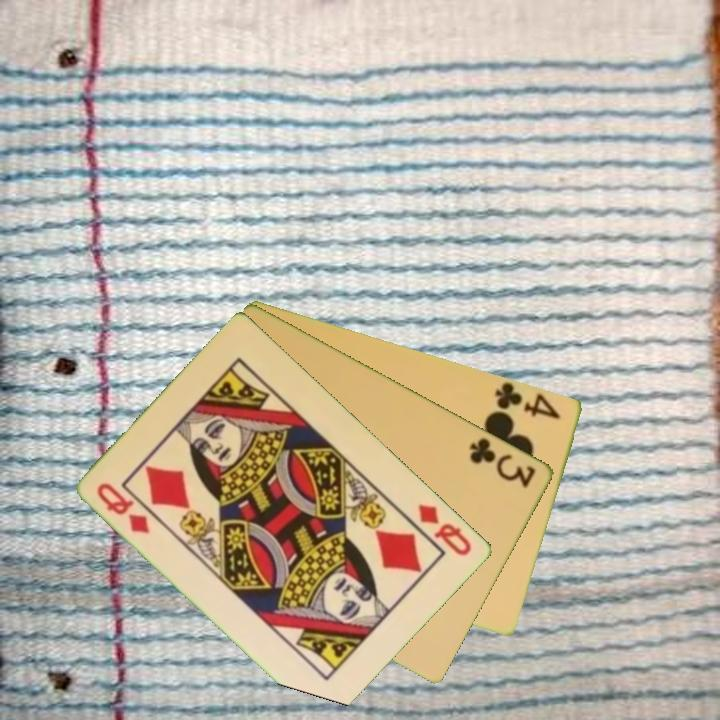3c: (466, 433, 540, 491)
4c: (491, 379, 564, 422)
Qd: (415, 500, 475, 559), (93, 479, 154, 537)
